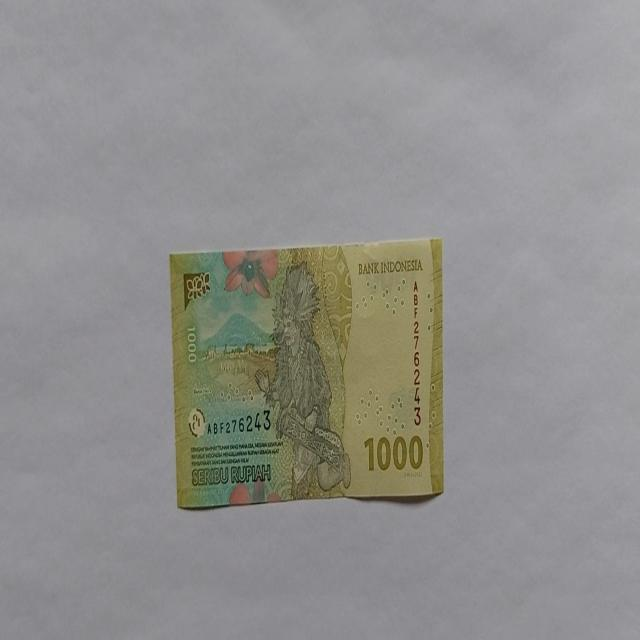seribu rupiah kertas: (168, 236, 444, 510)
